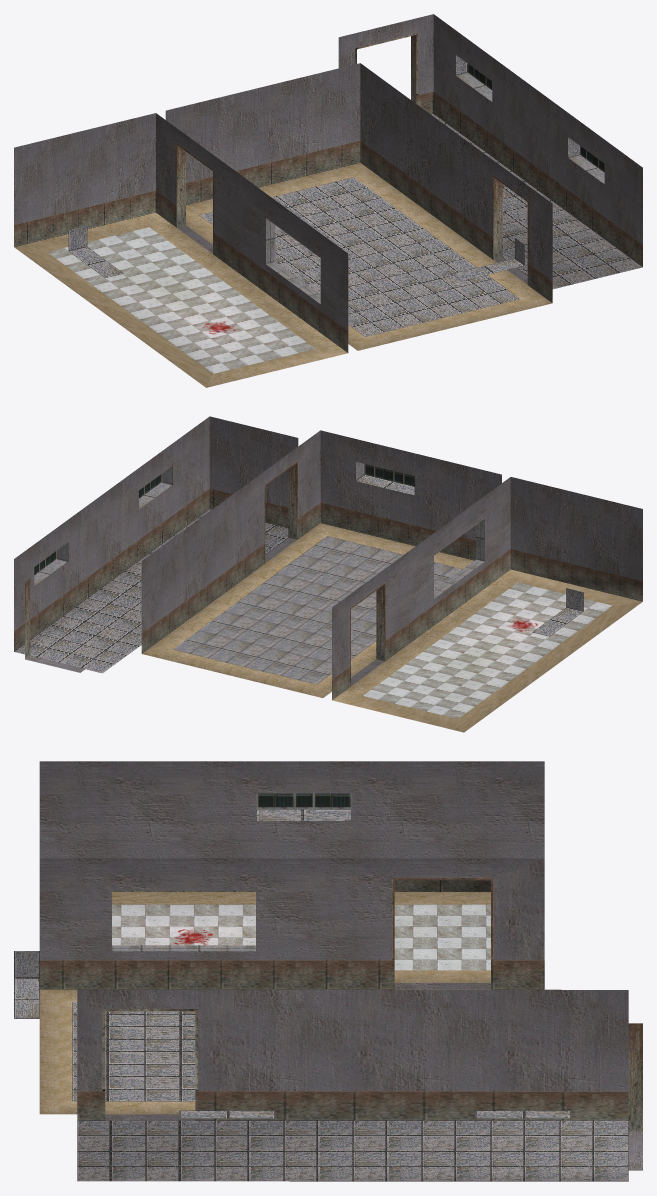
File: M10_Offices_Int_03.glb
3 views of the same model, one above another, from view 1: azimuth 30°, elevation 25°; view 2: azimuth 150°, elevation 25°; view 3: azimuth 270°, elevation 25° (orthographic). The views are drawn at different scales.
Visible parts, largest first — view 1: M10_OFFICES_INT_03; view 2: M10_OFFICES_INT_03; view 3: M10_OFFICES_INT_03.
Boxes of the visible parts, <box> form: M10_OFFICES_INT_03: <box>14,14,642,387</box>; M10_OFFICES_INT_03: <box>14,416,642,732</box>; M10_OFFICES_INT_03: <box>14,761,642,1181</box>.
Bounding box in the file's own units: 15.22 × 3 × 13.07.
Materials: 9 (9 with a texture image).
